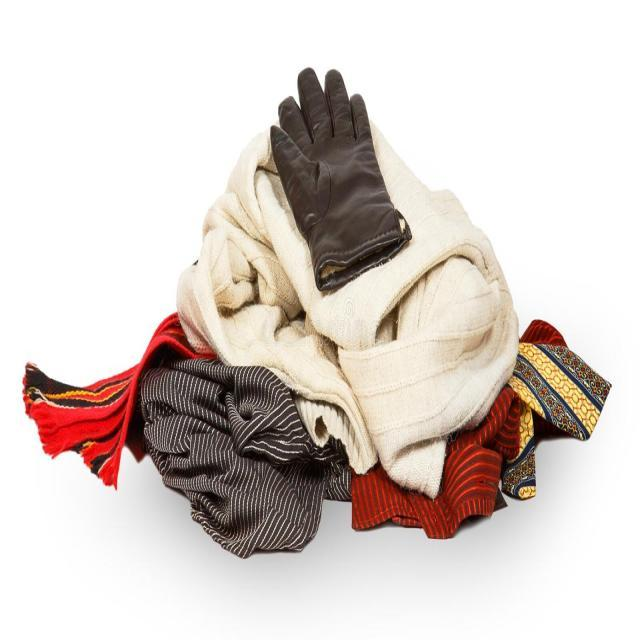clothes: (113, 58, 620, 573)
